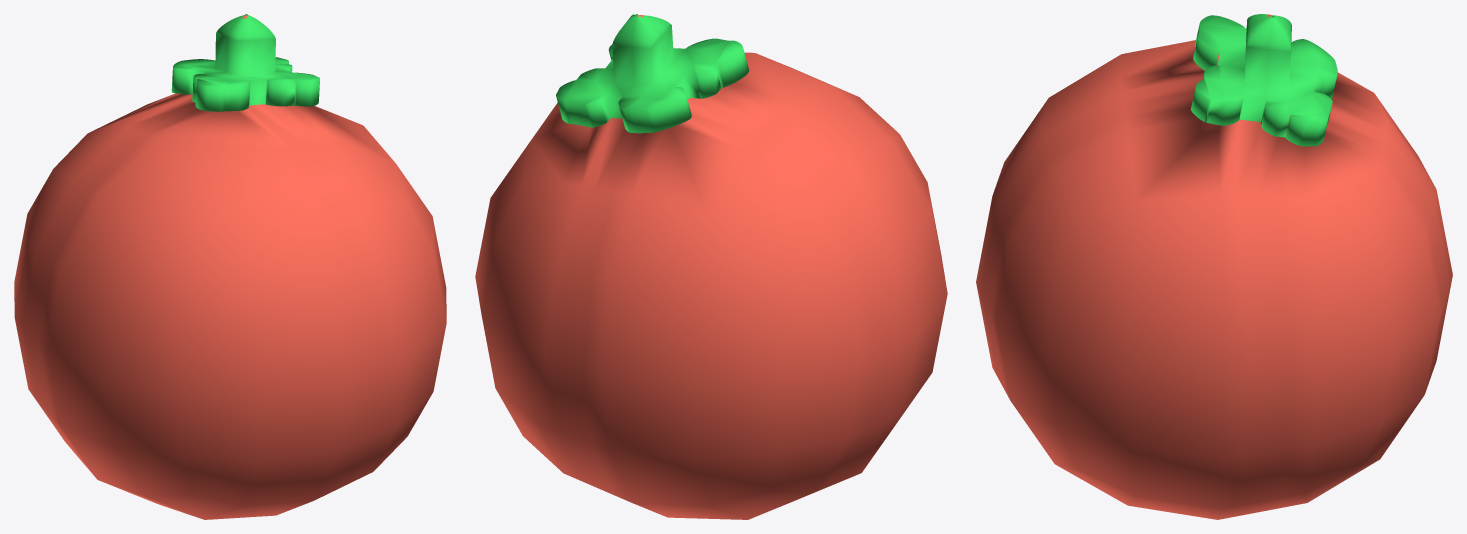
Rendered from tomat.fbx.
3 views of the same model, side by side, from view 1: azimuth 30°, elevation 25°; view 2: azimuth 150°, elevation 25°; view 3: azimuth 270°, elevation 25° (orthographic). The views are drawn at different scales.
Visible parts, largest first — view 1: Cube.319; view 2: Cube.319; view 3: Cube.319.
Part boxes in pixels (<box>): Cube.319: <box>14,14,446,519</box>; Cube.319: <box>475,14,947,519</box>; Cube.319: <box>976,14,1452,519</box>.
Bounding box in the file's own units: 7.48 × 8.7 × 7.48.
